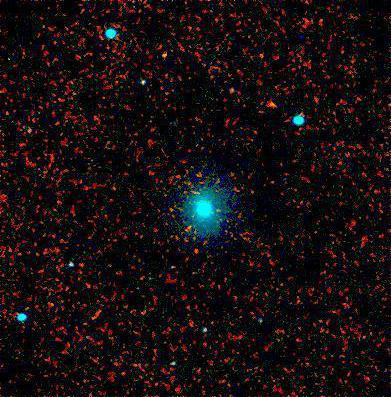star: (258, 90, 288, 120)
